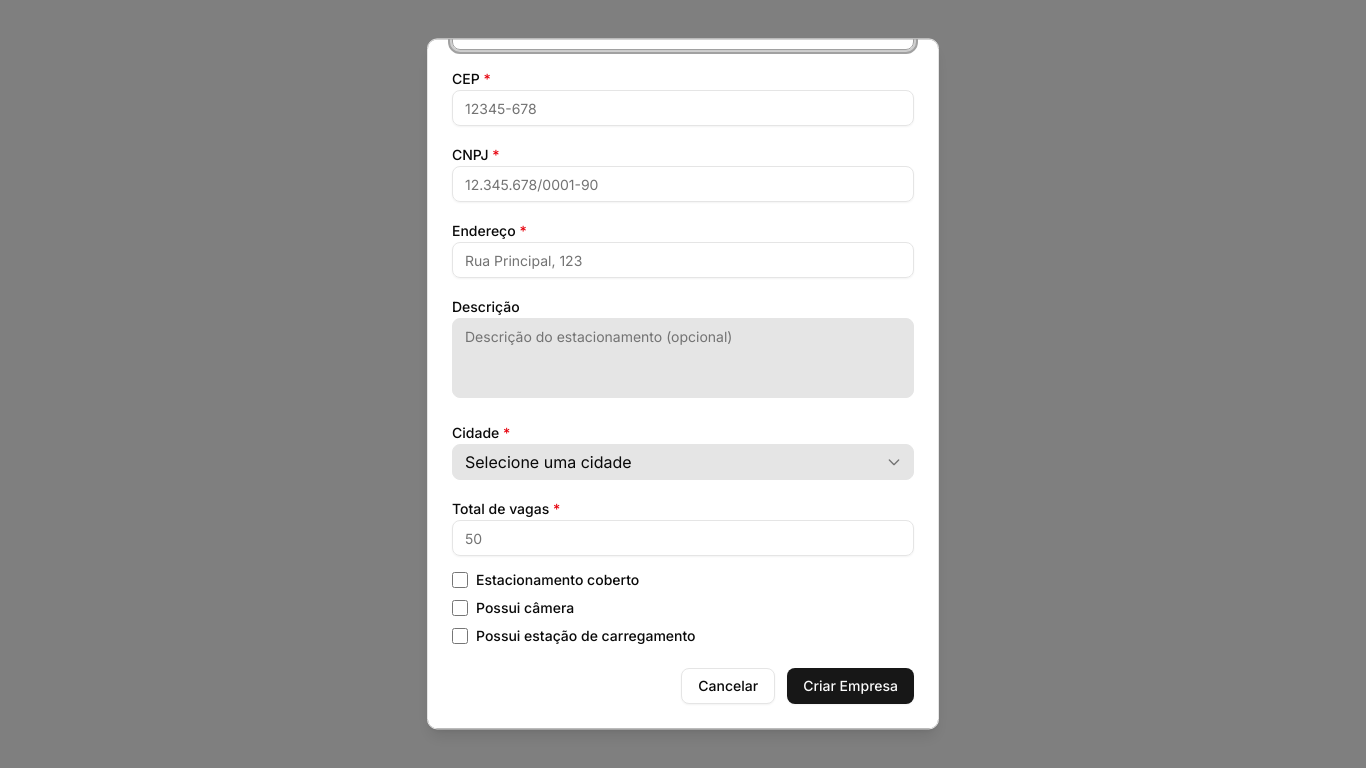
Scenario: companyForm › validation › should show validation error when name is empty
(page scrolled)
Click the button "Criar Empresa". click: (851, 686)
box: [787,668,914,704]
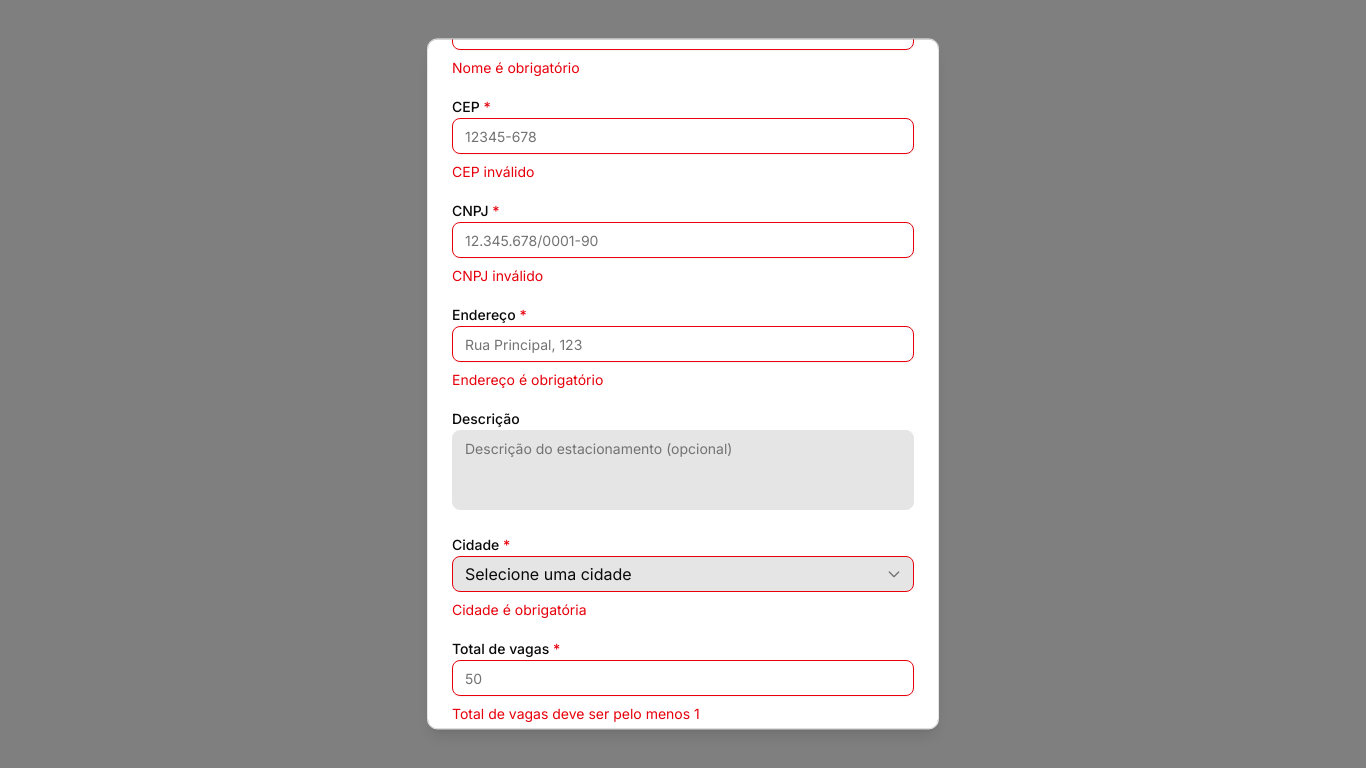
Now the text "Nome é obrigatório" is shown, box [452,59,580,76]
